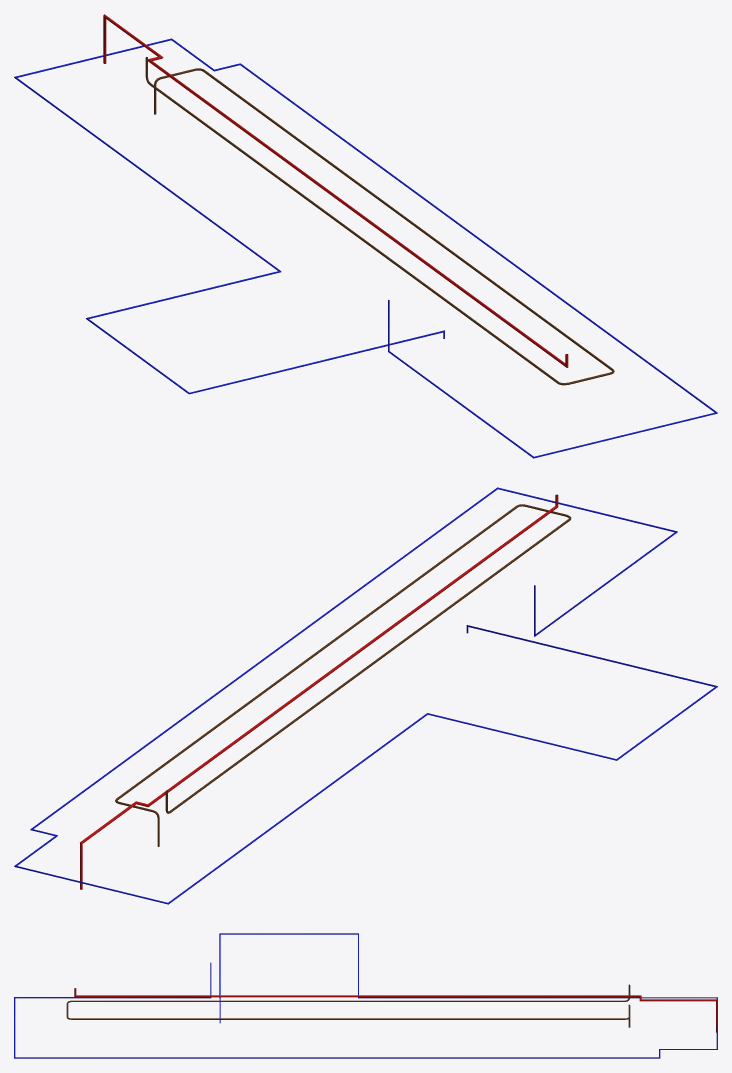
Rendered from pipe_2.dae.
The picture shows the model from 3 angles, top to bottom: view 1: azimuth 30°, elevation 25°; view 2: azimuth 150°, elevation 25°; view 3: azimuth 270°, elevation 25°; orthographic projection. The views are drawn at different scales.
Visible parts, largest first — view 1: __pipe_2, __pipe_1, __pipe_3; view 2: __pipe_2, __pipe_1, __pipe_3; view 3: __pipe_2, __pipe_1, __pipe_3.
Part boxes in pixels (left/top/right/bottom): __pipe_2: left=14, top=38, right=717, bottom=458; __pipe_1: left=145, top=57, right=614, bottom=385; __pipe_3: left=103, top=14, right=568, bottom=367; __pipe_2: left=14, top=487, right=717, bottom=904; __pipe_1: left=115, top=504, right=571, bottom=846; __pipe_3: left=80, top=494, right=558, bottom=889; __pipe_2: left=14, top=933, right=717, bottom=1058; __pipe_1: left=66, top=984, right=630, bottom=1027; __pipe_3: left=74, top=988, right=717, bottom=1032.
Bounding box in the file's own units: 36.51 × 87.15 × 5.43.
